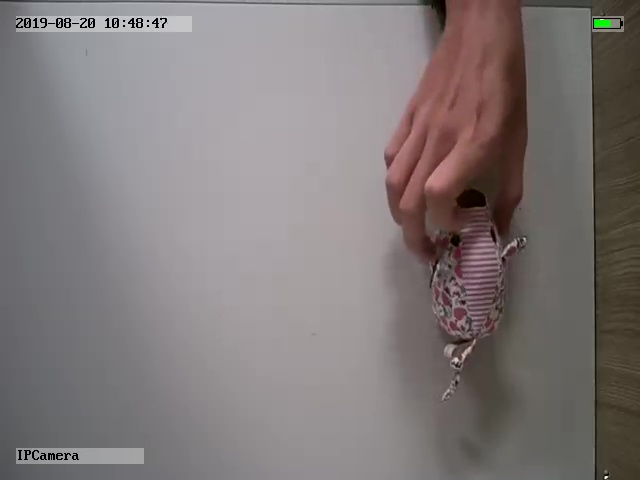pig: (427, 186, 527, 405)
